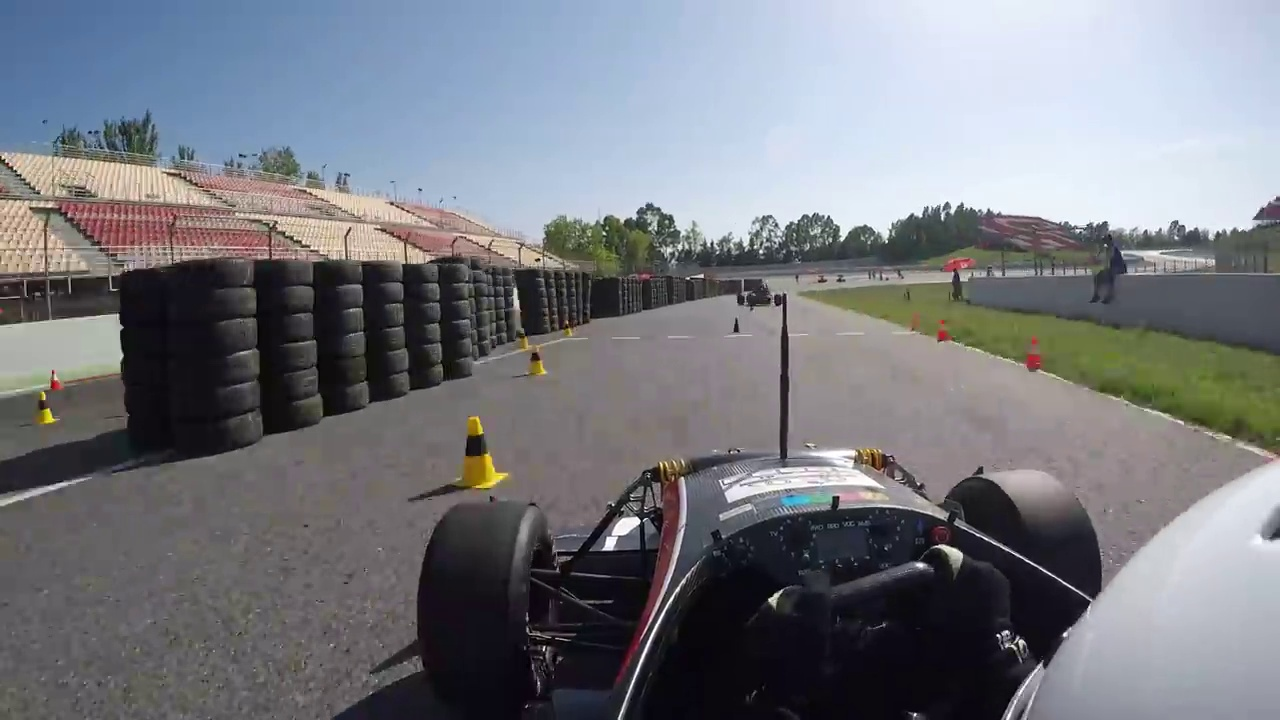Cone: (456, 412, 503, 489), (525, 344, 550, 376), (1023, 338, 1049, 366)
